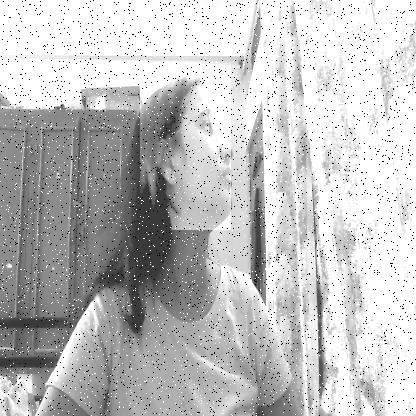Distracted: (140, 66, 231, 230)
